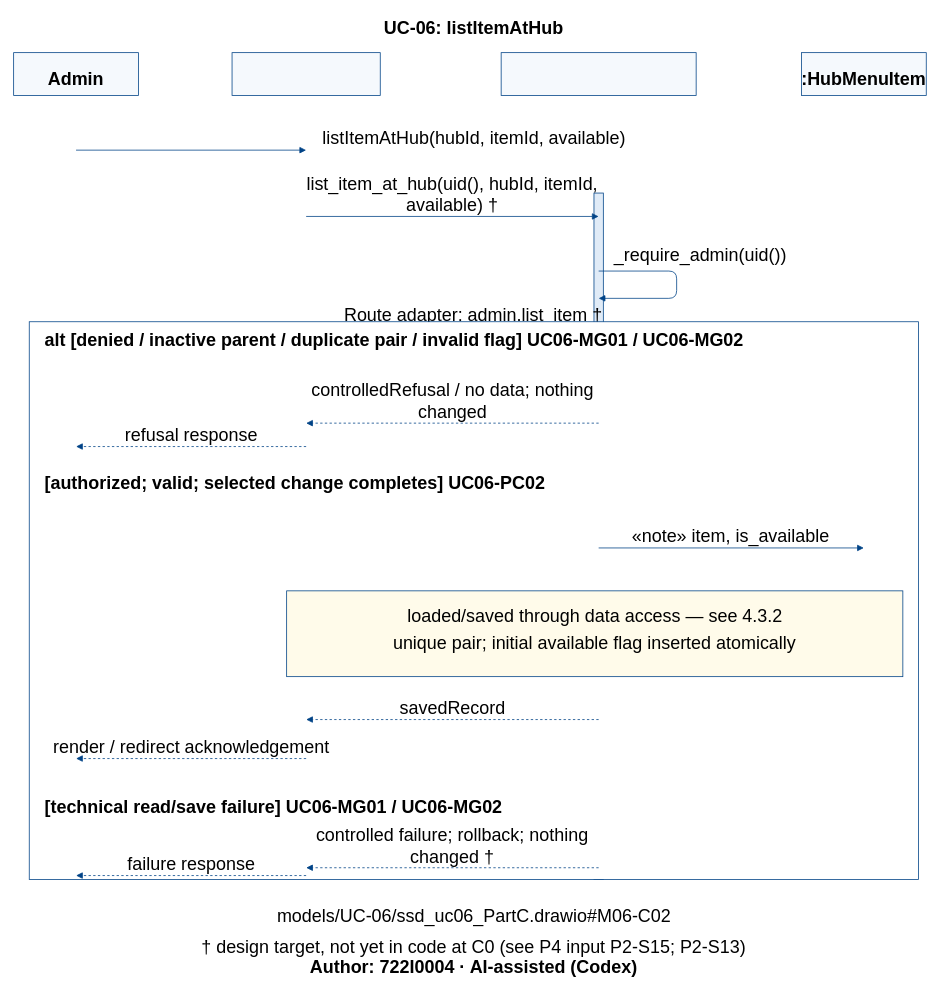
The diagram is 944 pixels wide and 991 high, and some of its shapes have lost their labels. Here are the shapes that lost their labels. From the top down, the centre of each, then its label:
At point 305,74: "«view» admin".
At point 598,74: ":MenuController".
